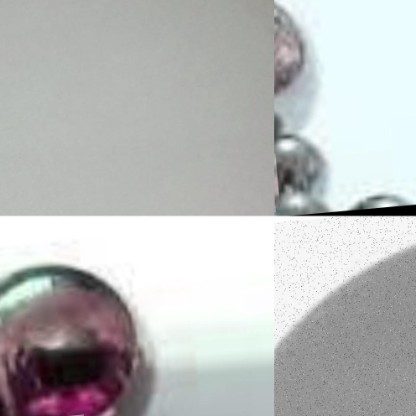ironball: (0, 240, 163, 415), (273, 0, 313, 95), (275, 131, 330, 197), (342, 187, 415, 212)
